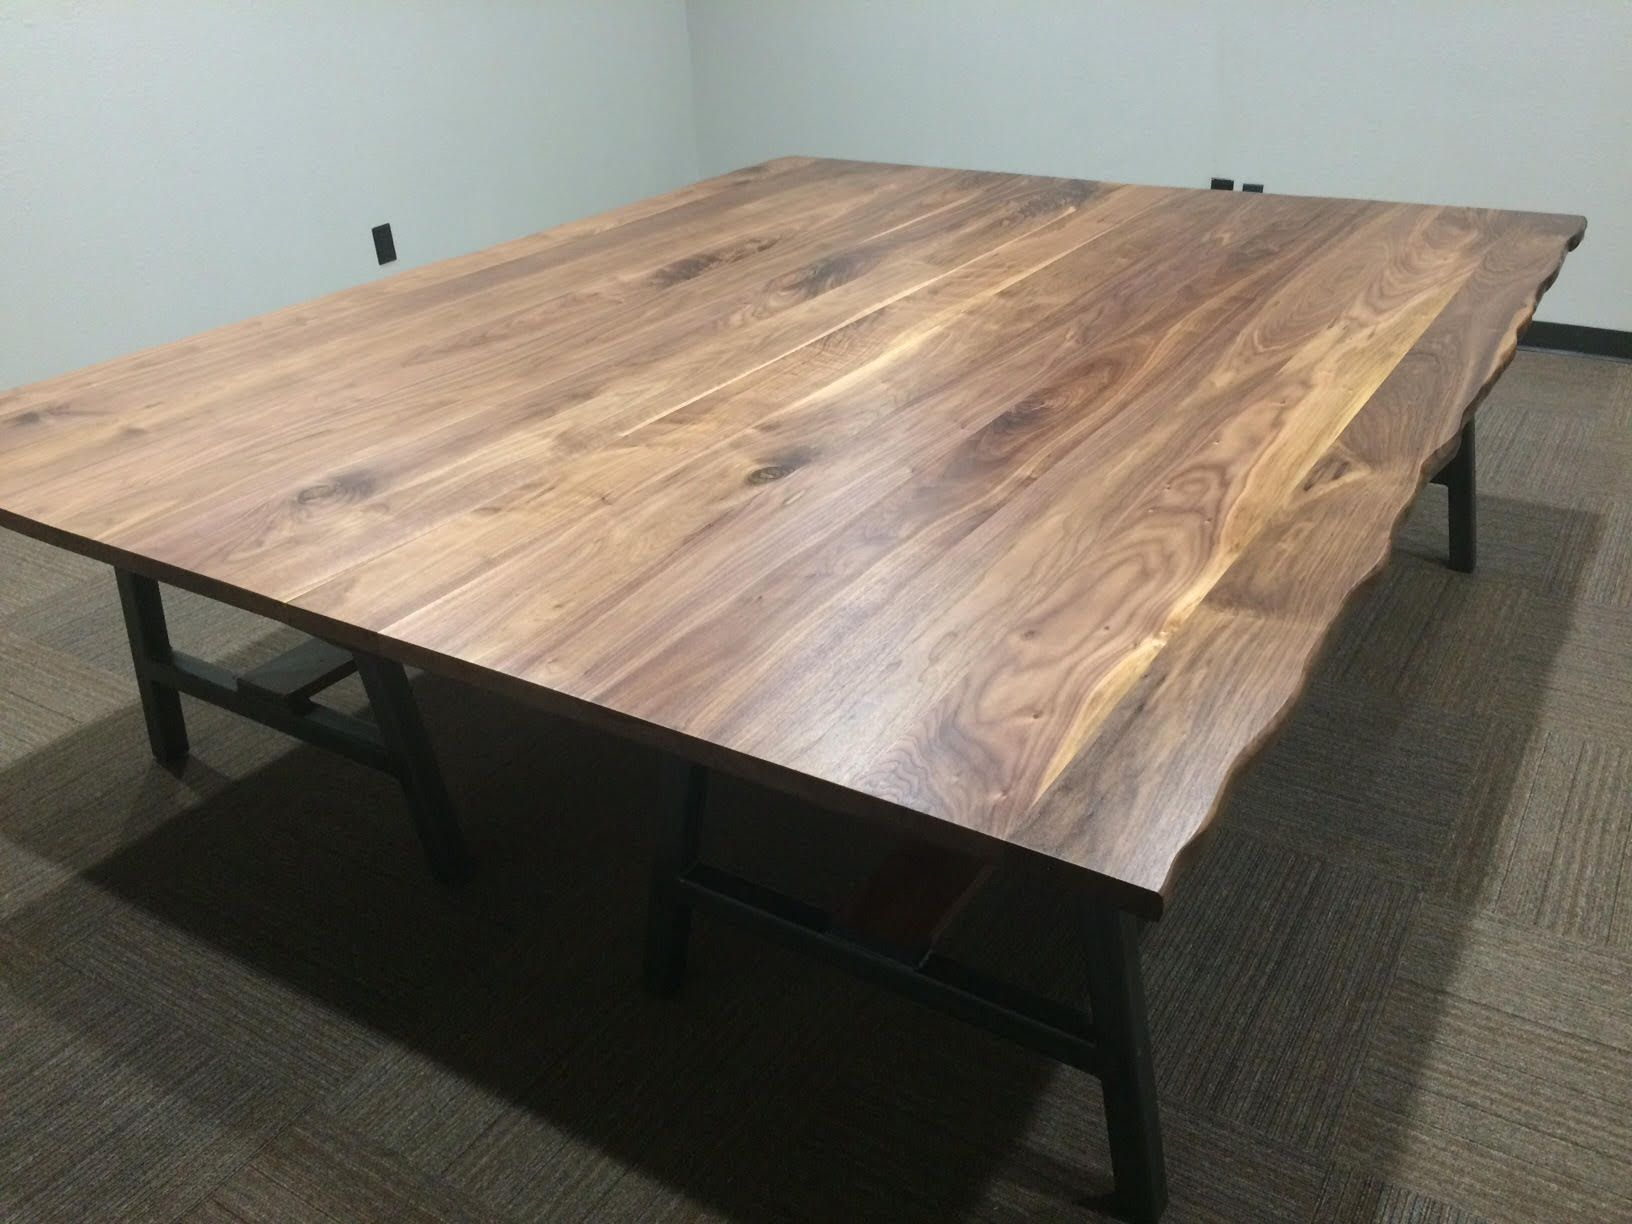conference_table: (1, 155, 1584, 1224)
